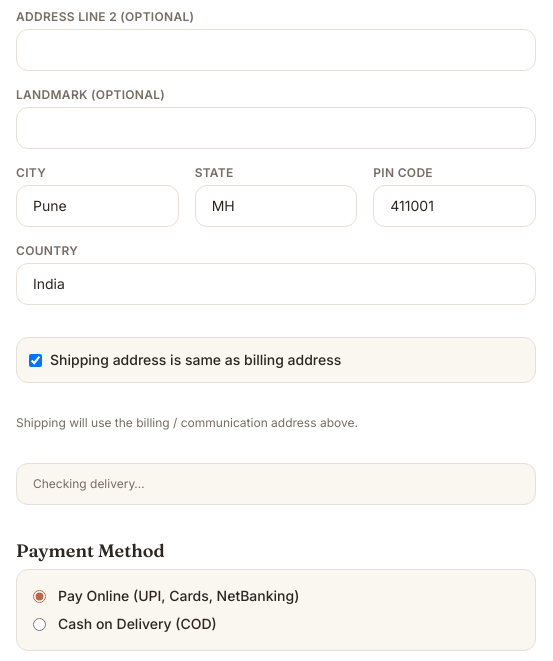
CheckoutPage — logged-in › switches the shipping form when a different saved address is selected
(page scrolled)
Click the checkbox labelled "Shipping address is same as billing address" at (36, 360), box [29,354,42,366]
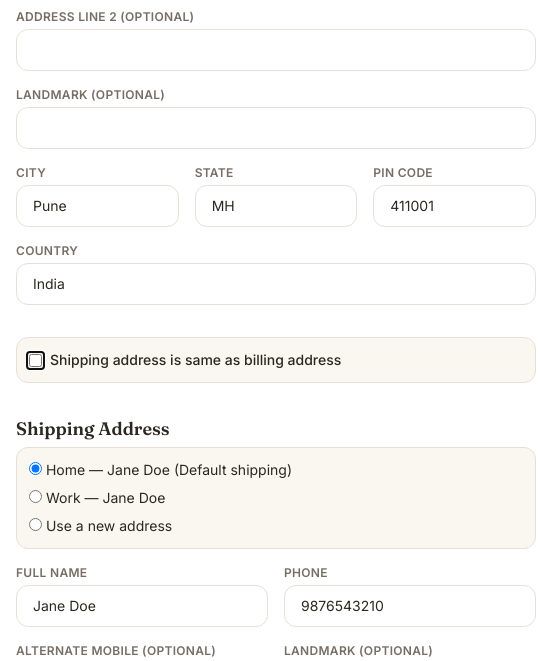
Click the radio button labelled "Work — Jane Doe" at (36, 496), box [29,490,42,503]
(page scrolled)
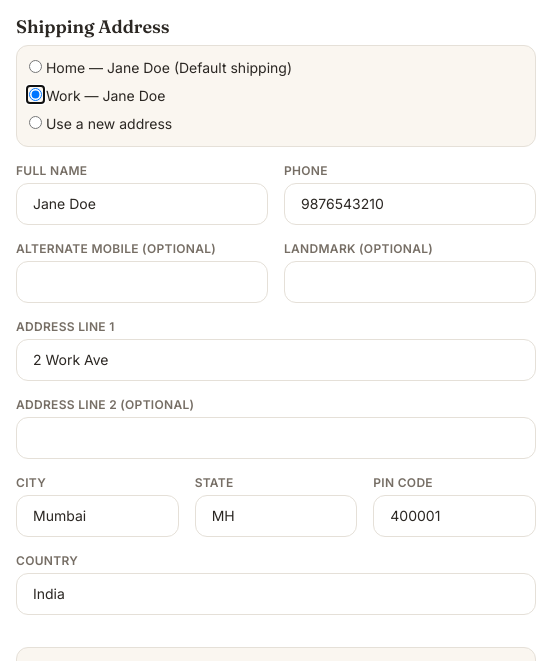
Check: the field showing "2 Work Ave" is shown, box [16,339,536,381]
